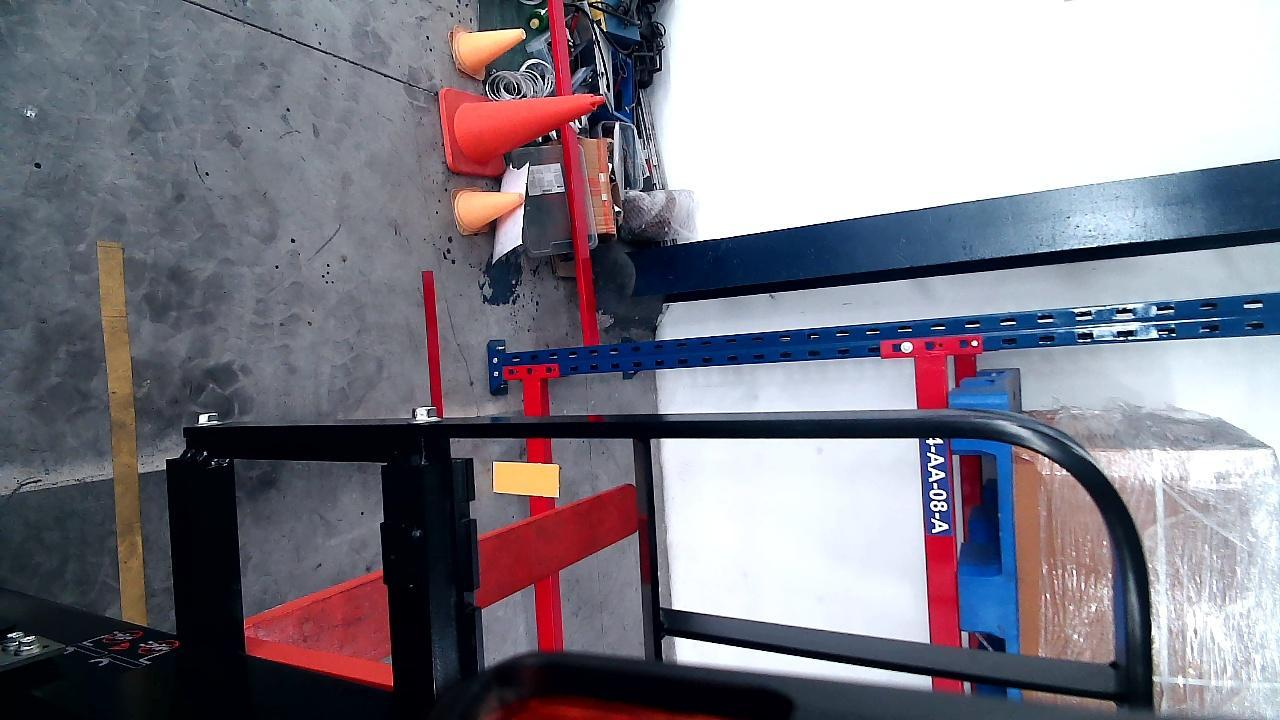red_line: (424, 269, 443, 410)
yellow_line: (101, 233, 148, 629)
